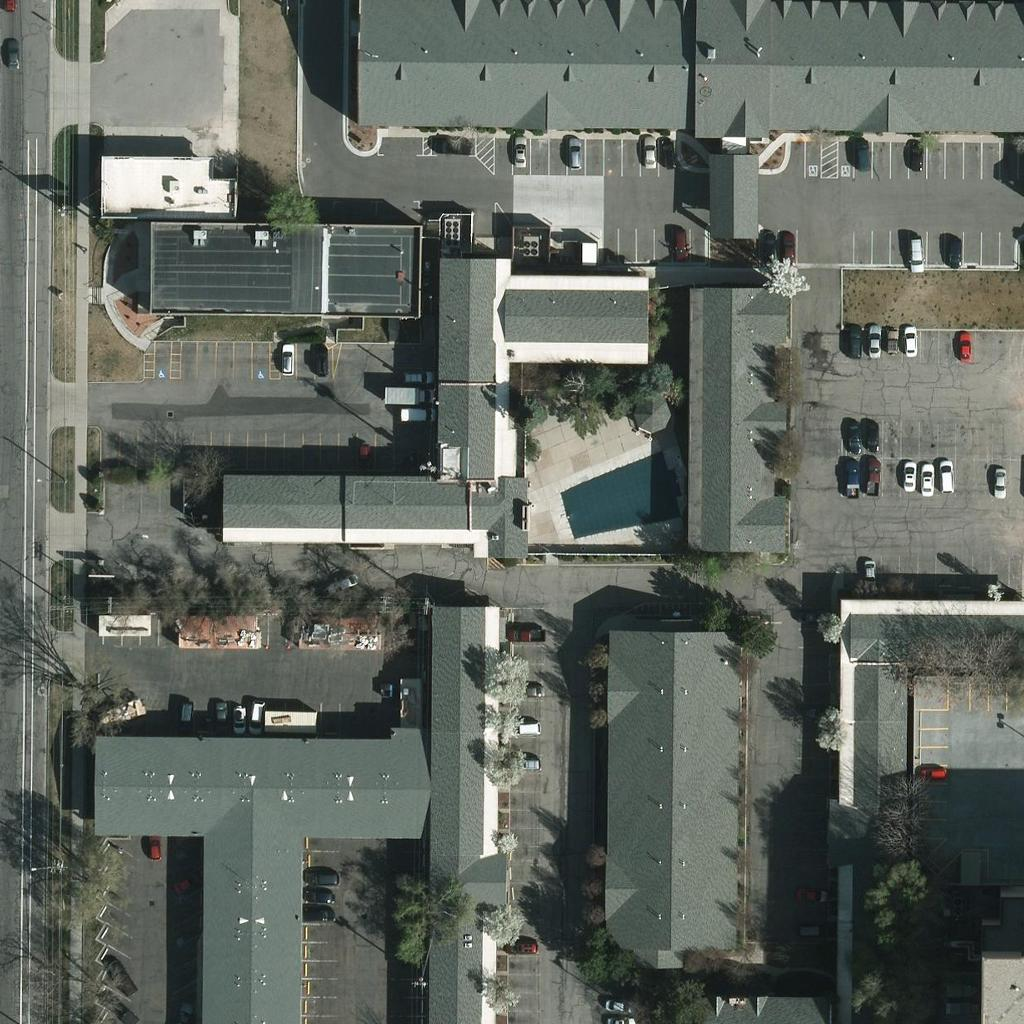car: (435, 128, 469, 162), (501, 132, 535, 166), (632, 134, 666, 168), (650, 135, 684, 169), (557, 136, 591, 170), (846, 138, 880, 172), (899, 144, 933, 178), (662, 227, 696, 261), (753, 232, 787, 266), (937, 233, 971, 267), (771, 234, 805, 268), (898, 237, 932, 271), (873, 324, 907, 358), (854, 326, 888, 360), (891, 326, 925, 360), (838, 328, 872, 362), (947, 333, 981, 367), (269, 341, 303, 375), (304, 344, 338, 378), (396, 360, 430, 394), (406, 397, 440, 431), (834, 417, 868, 451), (856, 418, 890, 452), (347, 437, 381, 471), (858, 456, 892, 490), (891, 458, 925, 492), (835, 459, 869, 493), (927, 461, 961, 495), (982, 461, 1016, 495), (908, 463, 942, 497), (852, 555, 886, 589), (326, 566, 360, 600), (505, 618, 539, 652), (512, 673, 546, 707), (237, 698, 271, 732), (205, 699, 239, 733), (222, 699, 256, 733), (168, 700, 202, 734), (505, 711, 539, 745), (507, 746, 541, 780), (915, 755, 949, 789), (138, 830, 172, 864), (306, 861, 340, 895), (166, 867, 200, 901), (795, 878, 829, 912), (300, 879, 334, 913), (295, 896, 329, 930), (796, 913, 830, 947), (505, 930, 539, 964), (102, 955, 136, 989), (97, 986, 131, 1020), (603, 987, 637, 1021), (0, 35, 28, 69), (166, 999, 200, 1024), (604, 1004, 638, 1024)
